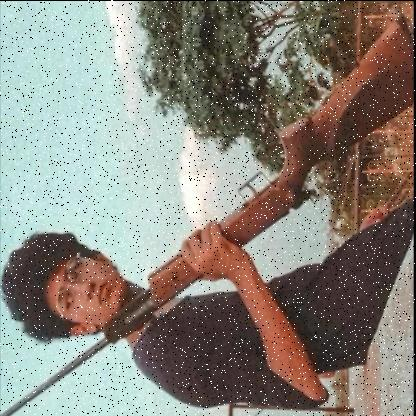rifle: (0, 12, 414, 416)
